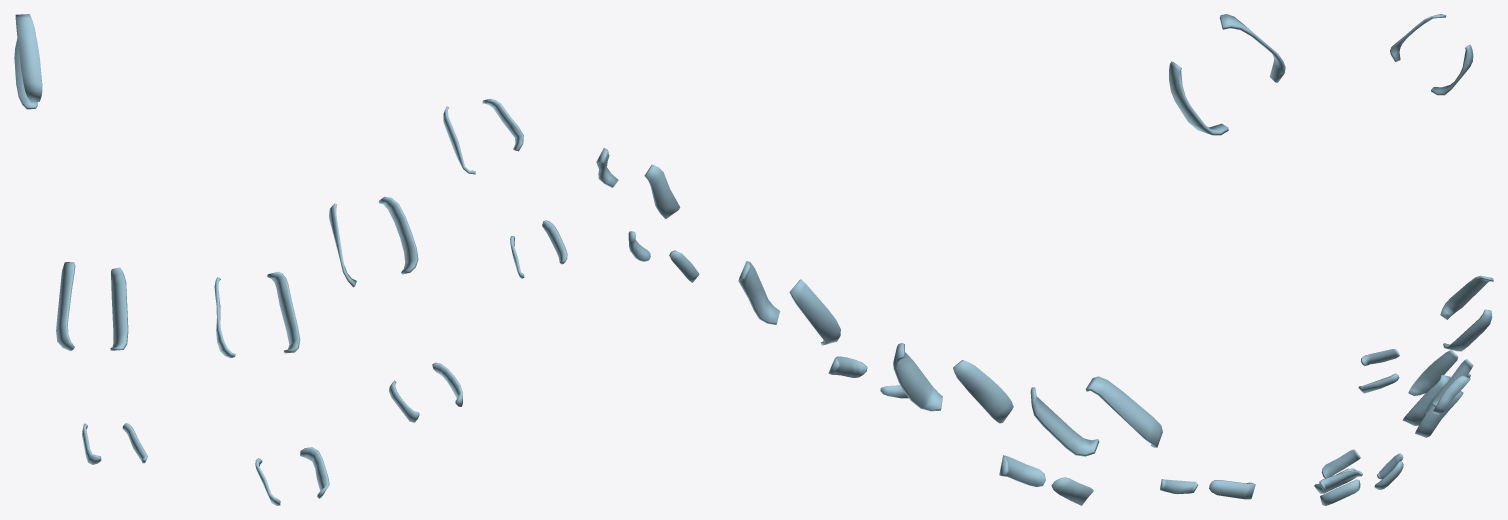
Rendered from articulacoes-collateral-interphalangeal-ligaments-of-hand-r.glb.
3 views of the same model, side by side, from view 1: azimuth 30°, elevation 25°; view 2: azimuth 150°, elevation 25°; view 3: azimuth 270°, elevation 25° (orthographic). The views are drawn at different scales.
Parts seen in each view (by area): view 1: Collateral interphalangeal ligaments of hand.r; view 2: Collateral interphalangeal ligaments of hand.r; view 3: Collateral interphalangeal ligaments of hand.r.
Part boxes in pixels (<box>): Collateral interphalangeal ligaments of hand.r: <box>14,14,567,505</box>; Collateral interphalangeal ligaments of hand.r: <box>596,14,1285,505</box>; Collateral interphalangeal ligaments of hand.r: <box>1314,14,1493,505</box>.
Bounding box in the file's own units: 0.1048 × 0.0918 × 0.0381.
